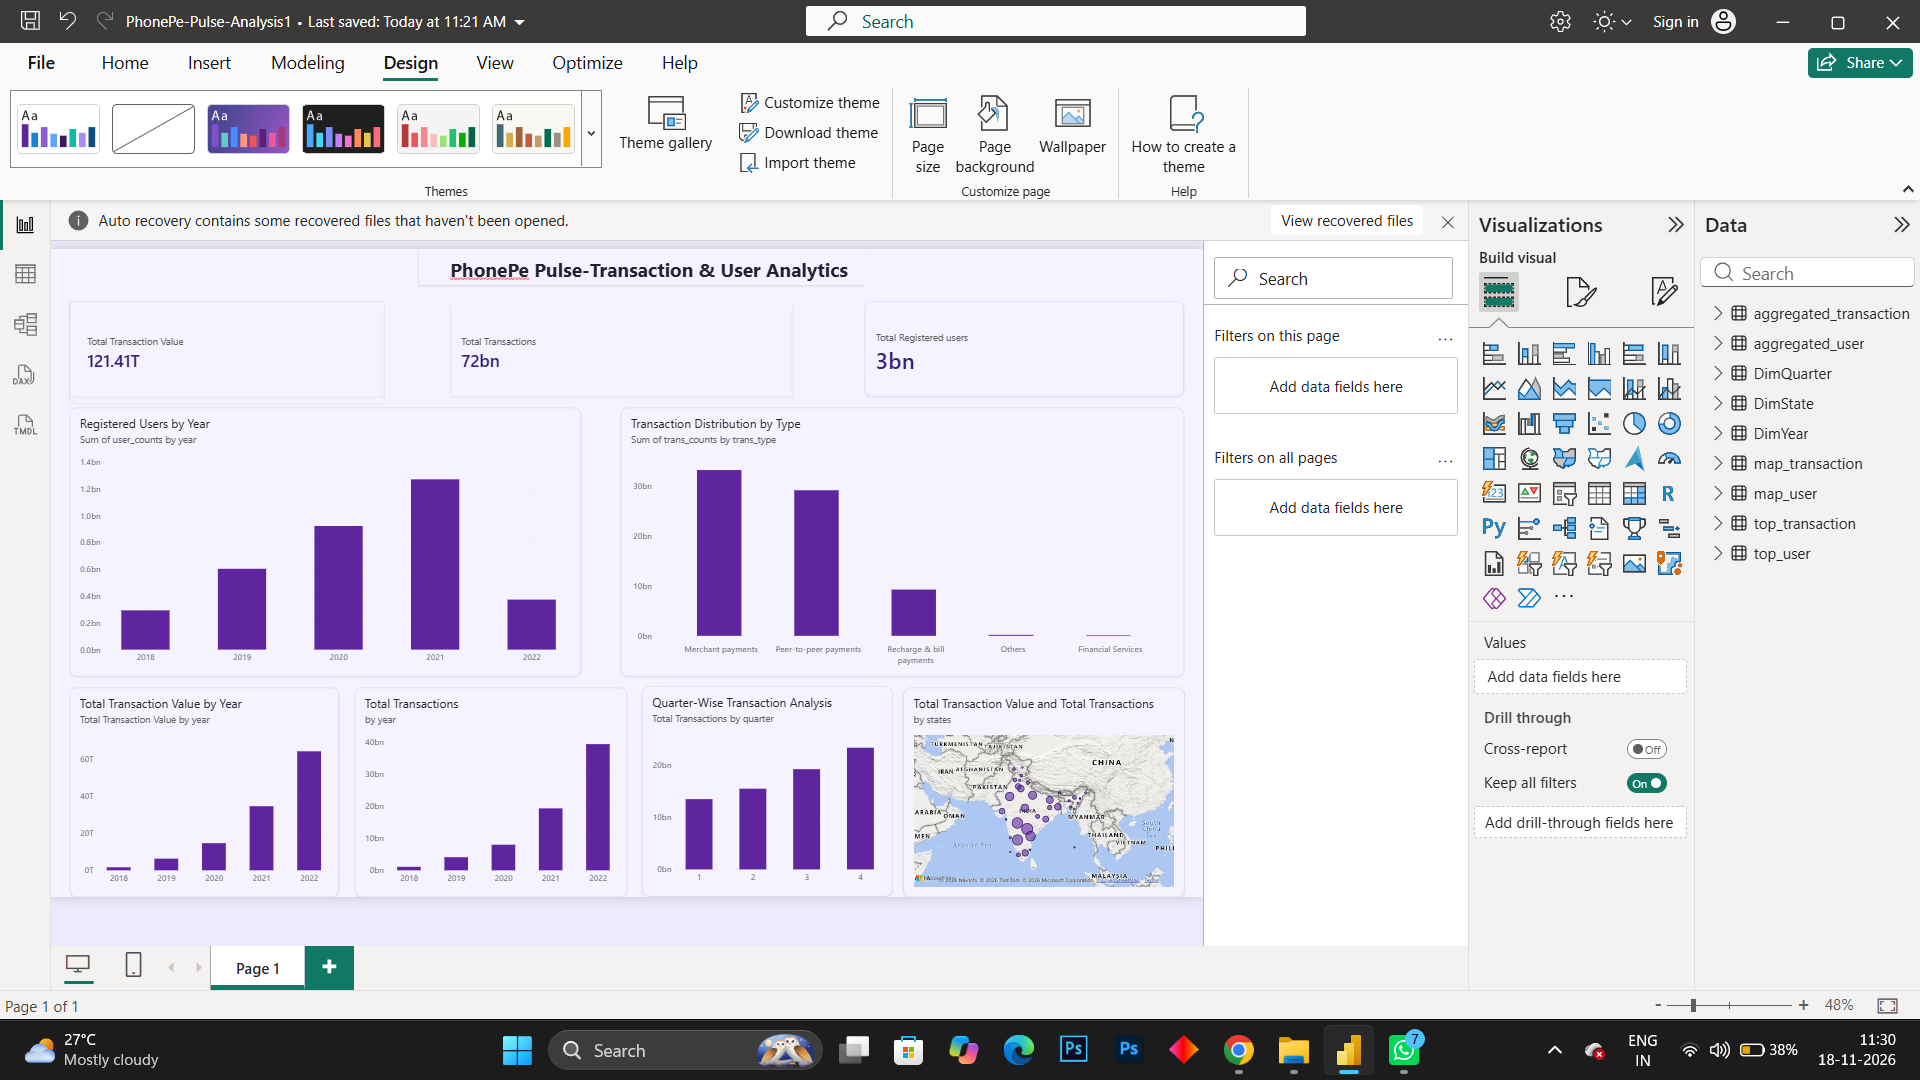

What the dashboard file says about the page in this screenshot:
{"tool":"powerbi","page":{"name":"Page 1","canvas":[1920,1080],"ordinal":0},"visuals":[{"type":"cardVisual","fields":{"Data":["aggregated_transaction.Total Transaction Value"]},"box":[31.2,87.5,522.8,168.7],"z":0},{"type":"cardVisual","fields":{"Data":["DimQuarter.Total Transactions"]},"box":[666.5,87.5,568.6,158.3],"z":1},{"type":"cardVisual","title":"Total Registered Users","fields":{"Data":["DimQuarter.Total Registered users"]},"box":[1356,87.5,531.1,158.3],"z":2},{"type":"clusteredColumnChart","title":"Total Transaction Value by Year","fields":{"Category":["DimYear.year"],"Y":["aggregated_transaction.Total Transaction Value"]},"box":[30.3,730.2,447.8,349],"z":3},{"type":"clusteredColumnChart","fields":{"Category":["DimYear.year"],"Y":["DimQuarter.Total Transactions"]},"box":[506.3,730.2,453.9,349],"z":4},{"type":"map","fields":{"Category":["aggregated_transaction.states"],"Size":["aggregated_transaction.Total Transaction Value"]},"box":[1420.1,730.2,468,349],"z":5},{"type":"clusteredColumnChart","title":"Transaction Distribution by Type","fields":{"Category":["aggregated_transaction.trans_type"],"Y":["Sum(aggregated_transaction.trans_counts)"]},"box":[950.1,264.3,938,447.8],"z":6},{"type":"clusteredColumnChart","title":"Quarter-Wise Transaction Analysis","fields":{"Category":["DimQuarter.quarter"],"Y":["DimQuarter.Total Transactions"]},"box":[985.6,729.6,416.6,349.5],"z":7},{"type":"clusteredColumnChart","title":"Registered Users by Year","fields":{"Category":["aggregated_user.year"],"Y":["Sum(aggregated_user.user_counts)"]},"box":[30.3,264.3,851.3,447.8],"z":8},{"type":"textbox","box":[612.4,0,743.6,60.4],"z":9},{"type":"cardVisual","fields":{"Data":["aggregated_transaction.Total Transaction Value"]},"box":[31.2,87.5,522.8,158.3],"z":10}]}

Visuals, with their boxes on the page's 1920x1080 design canvas (x1, y1, x2, y2). These are canvas units, not pixel positions in the 1920x1080 screenshot, which may show the page scaled, cropped or inside an application window:
cardVisual - aggregated_transaction.Total Transaction Value: {"left": 31, "top": 88, "right": 554, "bottom": 256}
cardVisual - DimQuarter.Total Transactions: {"left": 666, "top": 88, "right": 1235, "bottom": 246}
"Total Registered Users" cardVisual: {"left": 1356, "top": 88, "right": 1887, "bottom": 246}
"Total Transaction Value by Year" clusteredColumnChart: {"left": 30, "top": 730, "right": 478, "bottom": 1079}
clusteredColumnChart - DimYear.year x DimQuarter.Total Transactions: {"left": 506, "top": 730, "right": 960, "bottom": 1079}
map - aggregated_transaction.states x aggregated_transaction.Total Transaction Value: {"left": 1420, "top": 730, "right": 1888, "bottom": 1079}
"Transaction Distribution by Type" clusteredColumnChart: {"left": 950, "top": 264, "right": 1888, "bottom": 712}
"Quarter-Wise Transaction Analysis" clusteredColumnChart: {"left": 986, "top": 730, "right": 1402, "bottom": 1079}
"Registered Users by Year" clusteredColumnChart: {"left": 30, "top": 264, "right": 882, "bottom": 712}
textbox: {"left": 612, "top": 0, "right": 1356, "bottom": 60}
cardVisual - aggregated_transaction.Total Transaction Value: {"left": 31, "top": 88, "right": 554, "bottom": 246}
